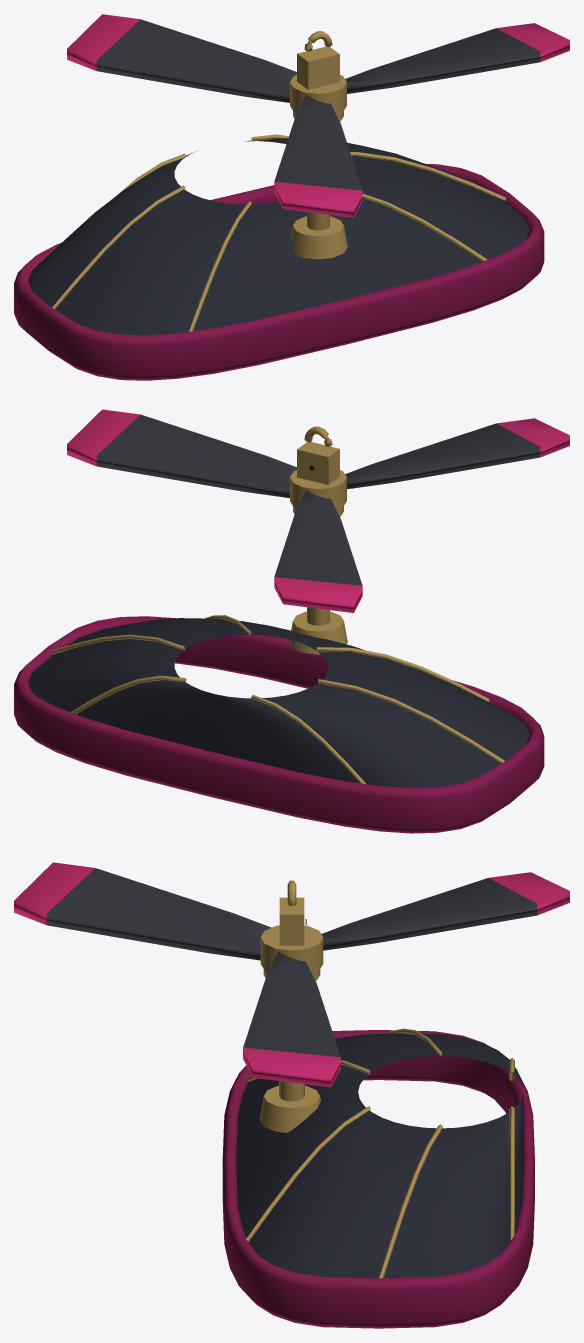
Rendered from glide-keep-beanie.glb.
The picture shows the model from 3 angles, top to bottom: view 1: azimuth 30°, elevation 25°; view 2: azimuth 150°, elevation 25°; view 3: azimuth 270°, elevation 25°; orthographic projection. The views are drawn at different scales.
Parts seen in each view (by area): view 1: glide-keep-beanie, spin; view 2: glide-keep-beanie, spin; view 3: glide-keep-beanie, spin.
Boxes of the visible parts, x1=… form: glide-keep-beanie: x1=14, y1=111, x2=544, y2=380; spin: x1=67, y1=14, x2=569, y2=217; glide-keep-beanie: x1=14, y1=506, x2=544, y2=833; spin: x1=67, y1=409, x2=569, y2=612; glide-keep-beanie: x1=222, y1=969, x2=534, y2=1328; spin: x1=14, y1=862, x2=569, y2=1087.
Bounding box in the file's own units: 0.556 × 0.3275 × 0.5123.
